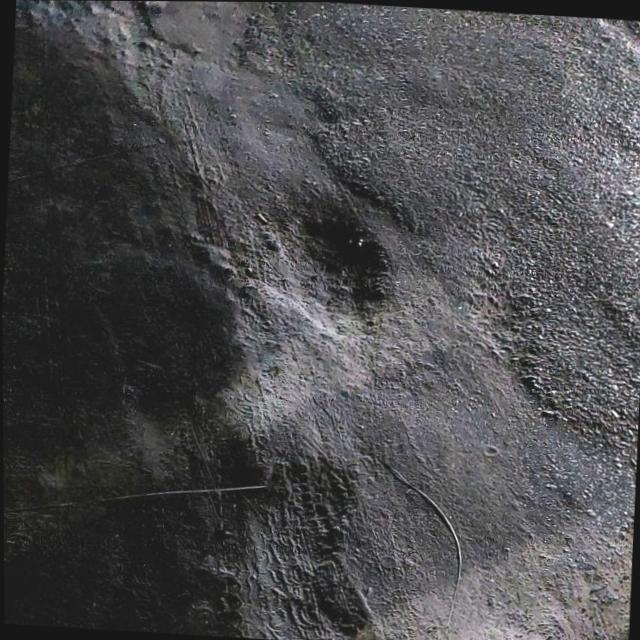Potholes: (258, 172, 398, 317)
